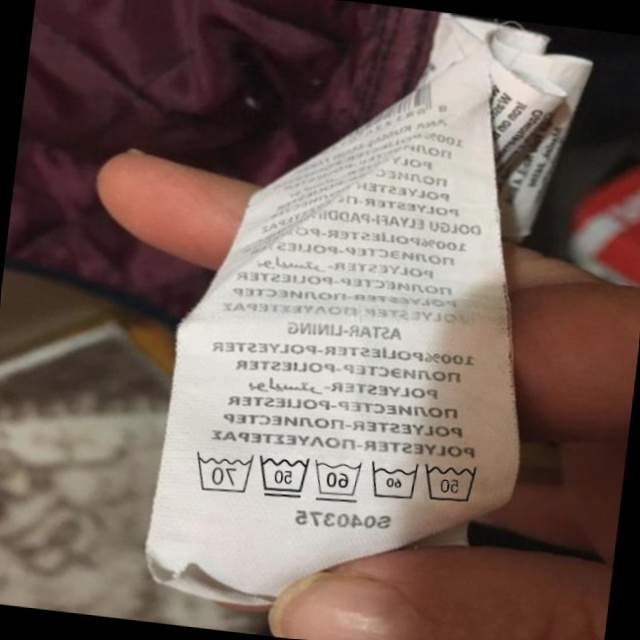50C: (417, 453, 485, 510), (251, 448, 313, 504)
60C: (307, 452, 365, 506), (363, 454, 422, 507)
70C: (186, 446, 255, 498)
